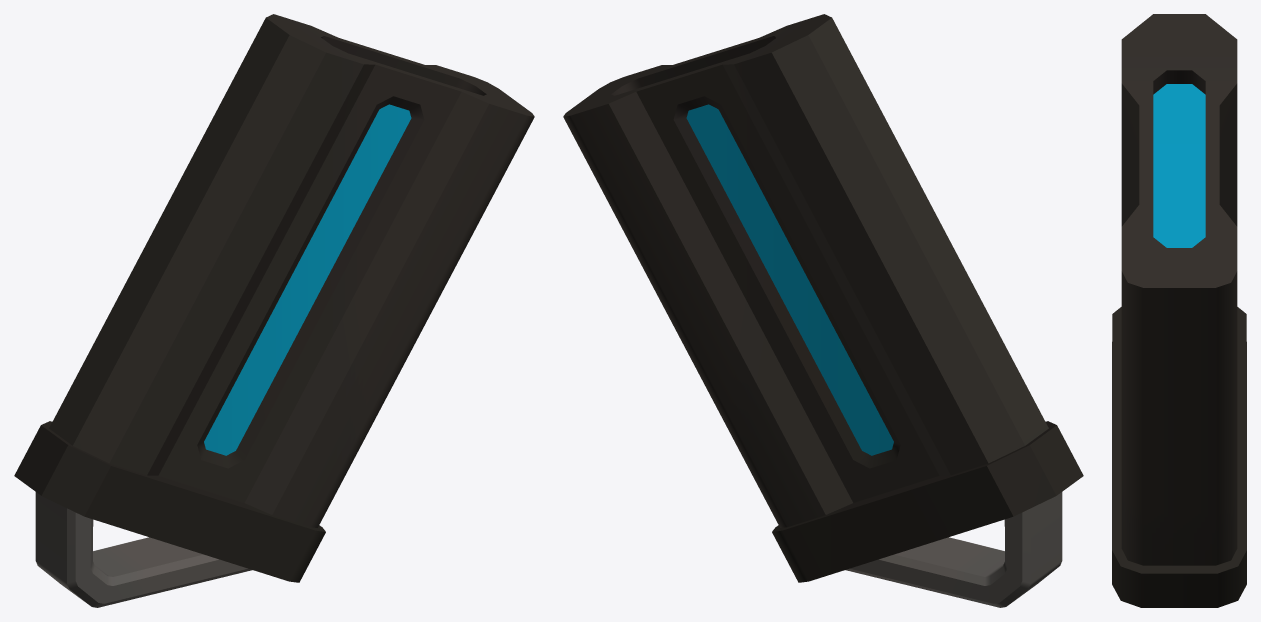
The model's file is SMG2_Magazine.fbx.
3 renders of one model, left to right at view 1: azimuth 30°, elevation 25°; view 2: azimuth 150°, elevation 25°; view 3: azimuth 270°, elevation 25°, orthographic. The views are drawn at different scales.
Visible parts, largest first — view 1: SMG2_Magazine; view 2: SMG2_Magazine; view 3: SMG2_Magazine.
Part boxes in pixels (left/top/right/bottom): SMG2_Magazine: left=14, top=14, right=534, bottom=607; SMG2_Magazine: left=563, top=14, right=1083, bottom=607; SMG2_Magazine: left=1112, top=14, right=1246, bottom=607.
Size of the model in its own units: 11.88 by 12.55 by 2.58.
